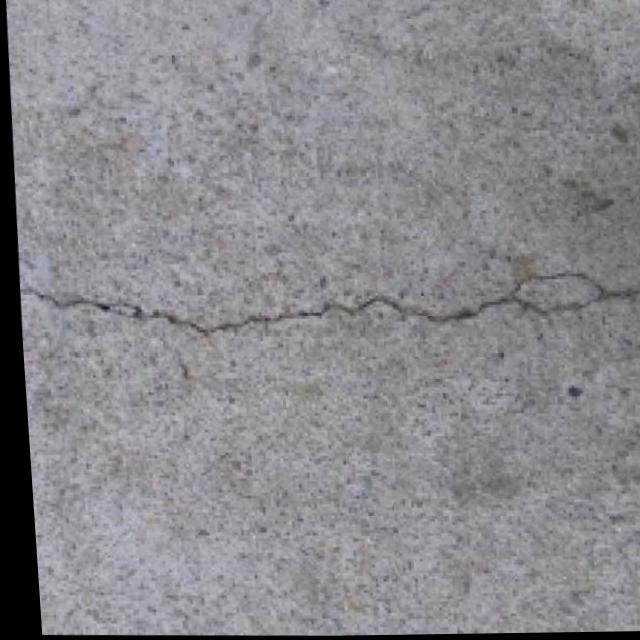Crack: (12, 215, 640, 367)
